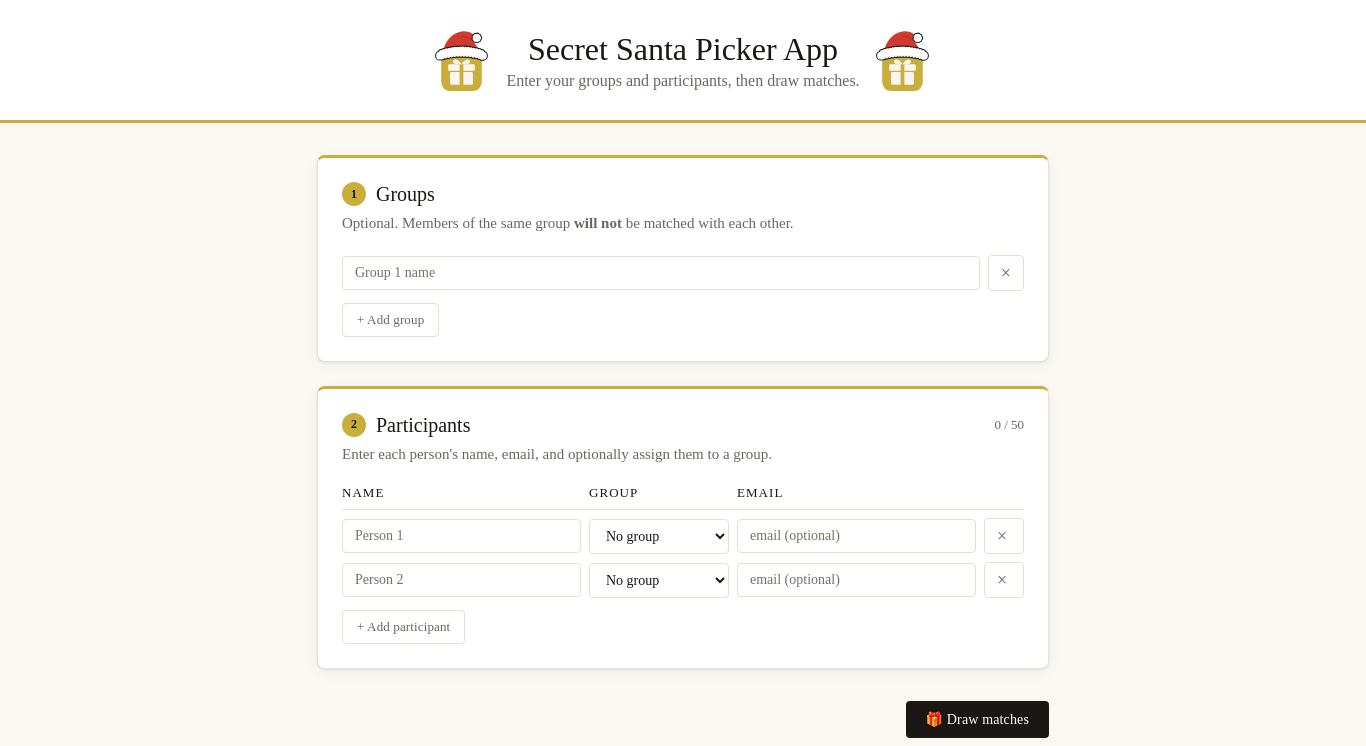
Scenario: home form › saving the form as it is typed › clears the form after a confirmation, and Keep leaves it alone
Type "Smiths" into the field labelled "Group 1 name" at [661, 272], box x1=342 y1=256 x2=980 y2=290
Type "Ann" into the field named "Person 1 name" at [462, 536], box x1=342 y1=519 x2=581 y2=553
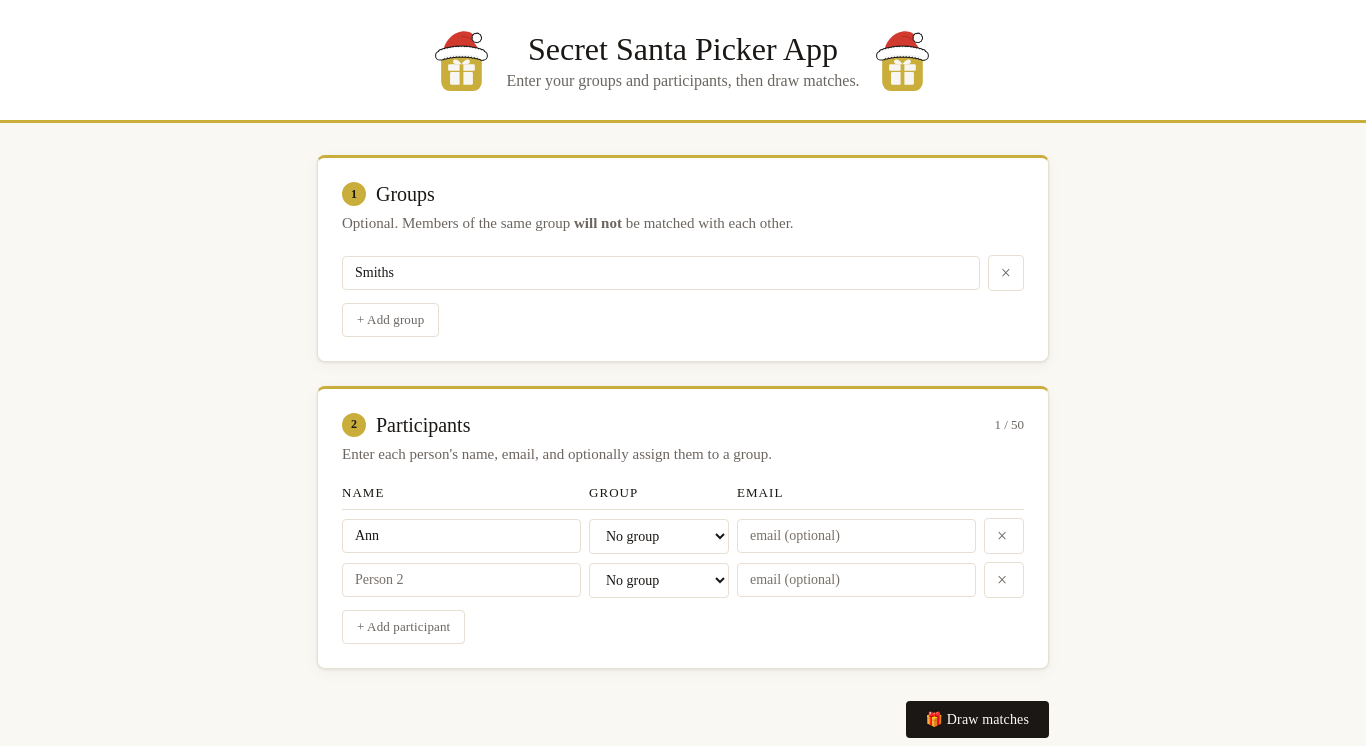
Click the button "+ Add participant" at [404, 627], box x1=342 y1=610 x2=465 y2=644
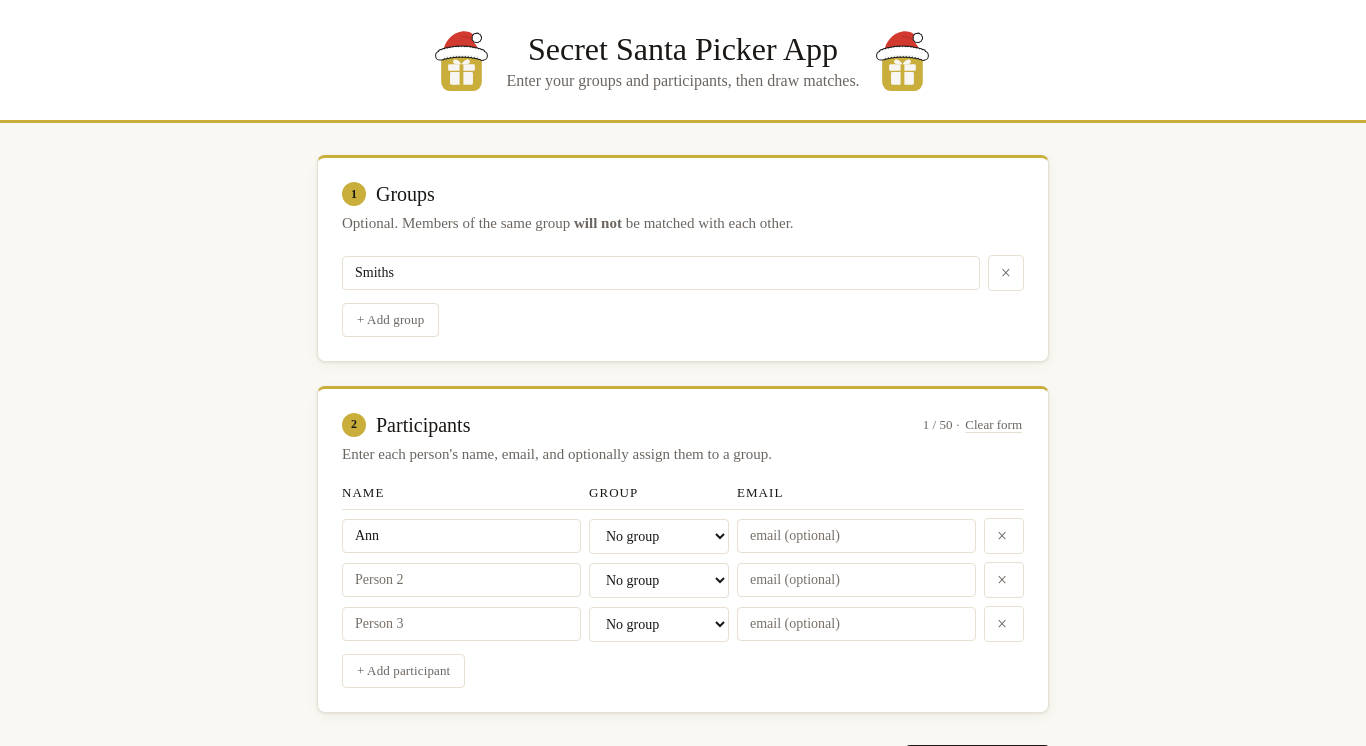
Click the button "Clear form" at [994, 424], box x1=963 y1=413 x2=1024 y2=436
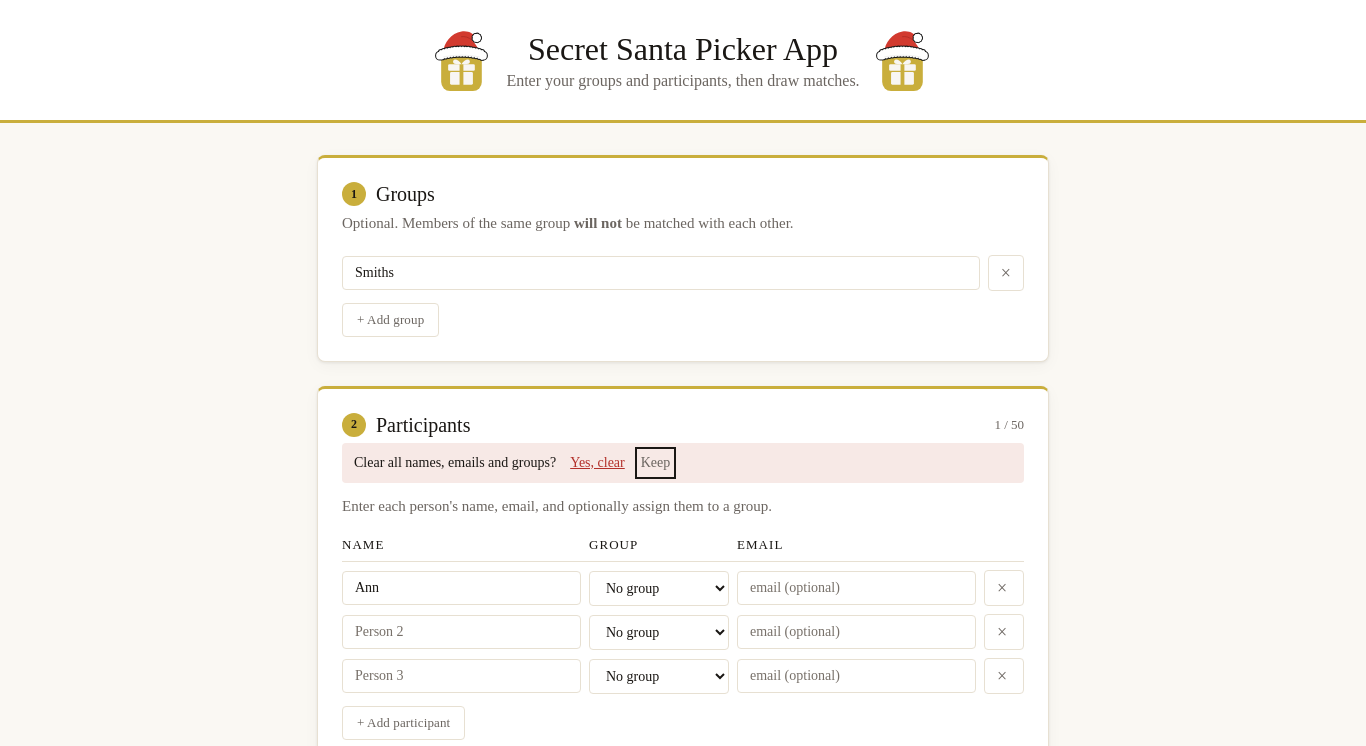
Check: the message shows "Clear all names, emails and groups?", box x1=354 y1=454 x2=556 y2=470
Click the button "Keep" at [656, 462], box x1=639 y1=450 x2=672 y2=474
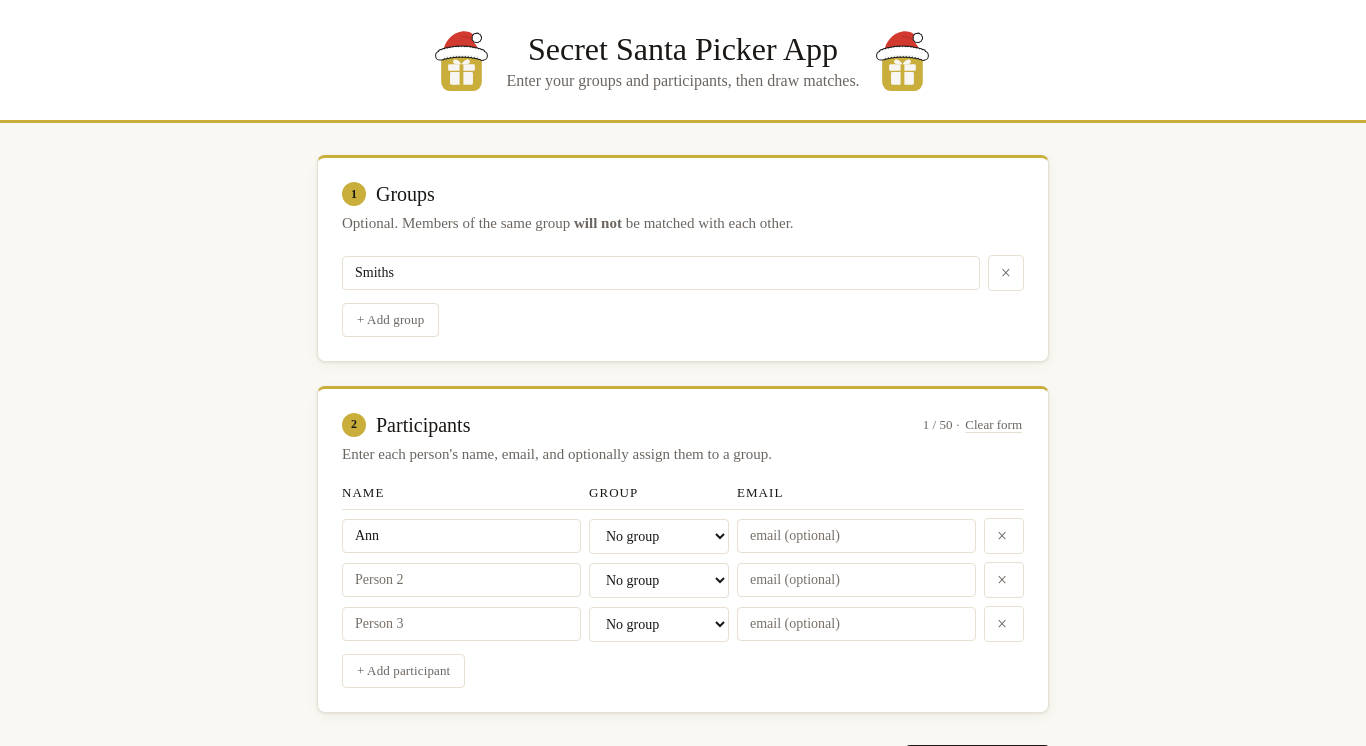
Check: the message "Clear all names, emails and groups? Yes, clear Keep" is gone
Click the button "Clear form" at [994, 424], box x1=963 y1=413 x2=1024 y2=436
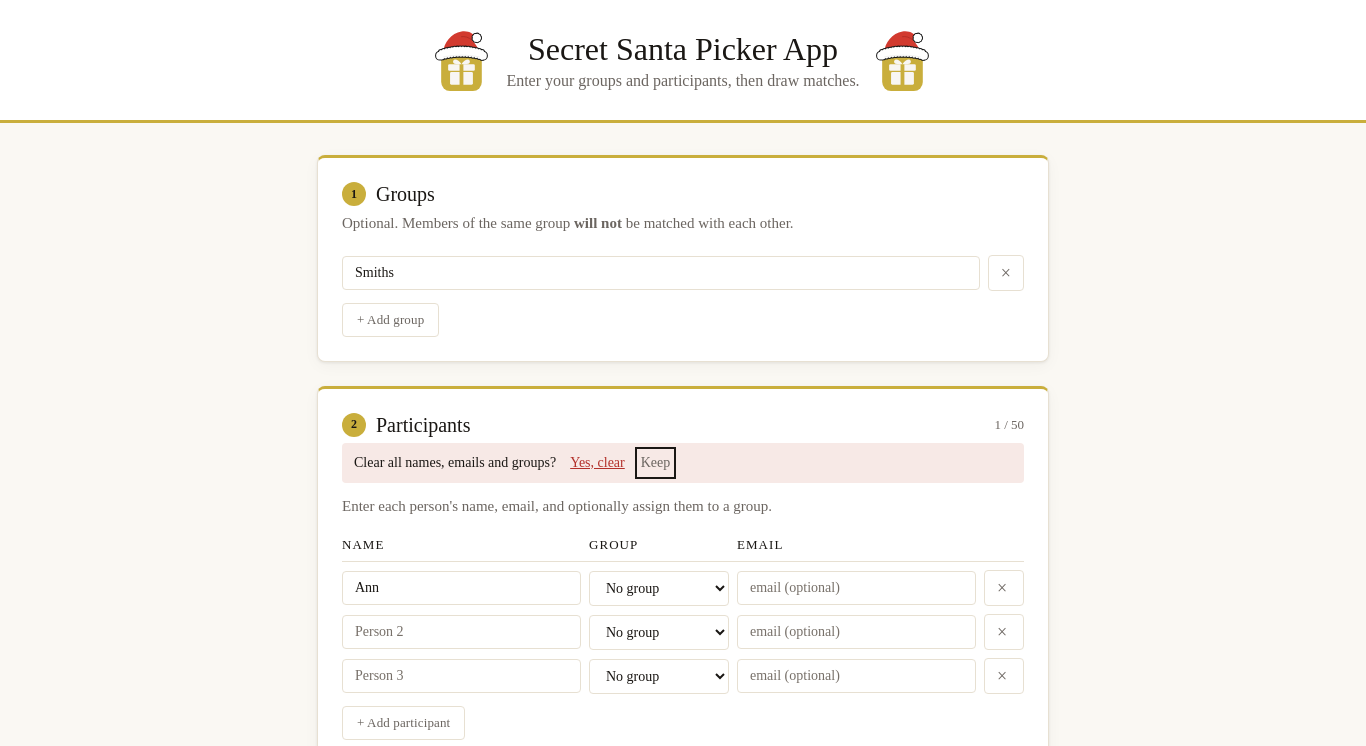
Click the button "Yes, clear" at [598, 462], box x1=568 y1=450 x2=627 y2=474
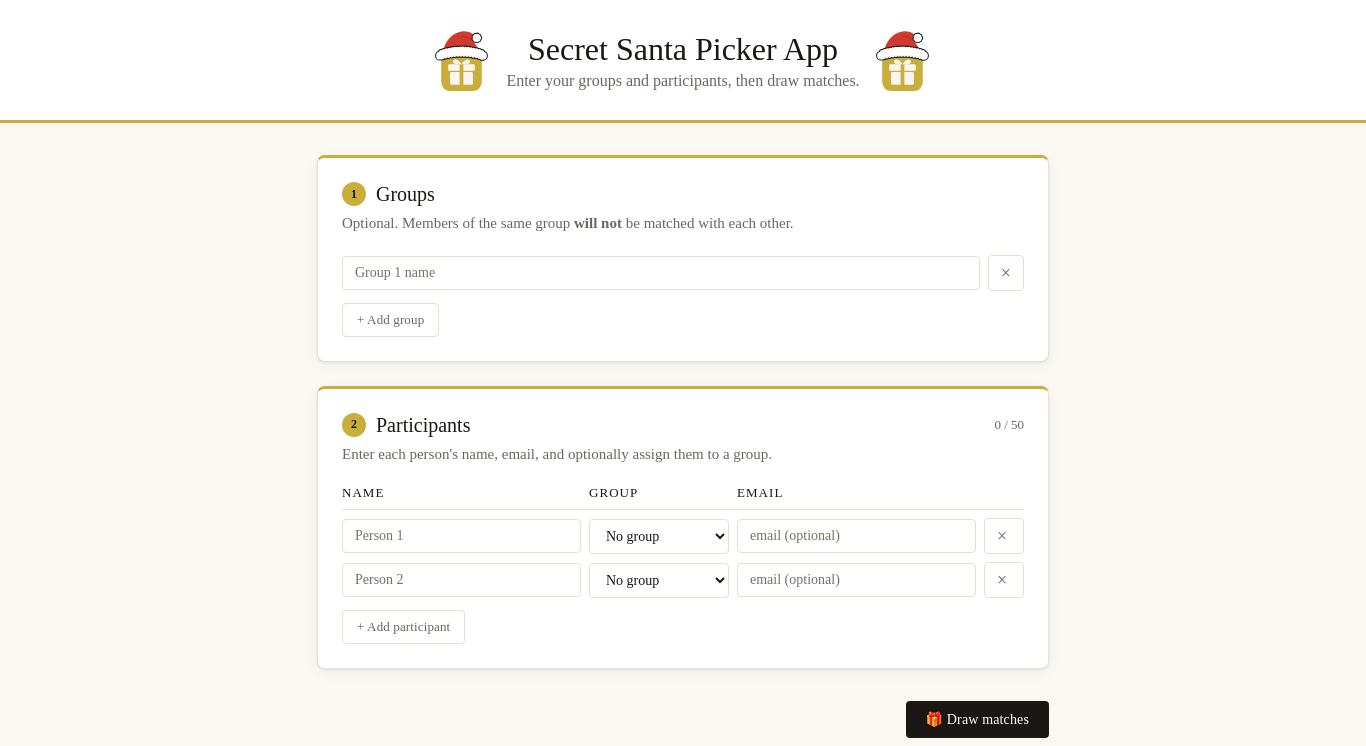
Check: the field named "Person 1 name" is empty, box x1=342 y1=519 x2=581 y2=553
Check: the field labelled "Group 1 name" is empty, box x1=342 y1=256 x2=980 y2=290
Check: the number of fields labelled "Person 1" is 2, box x1=342 y1=519 x2=581 y2=553; x1=342 y1=563 x2=581 y2=597
